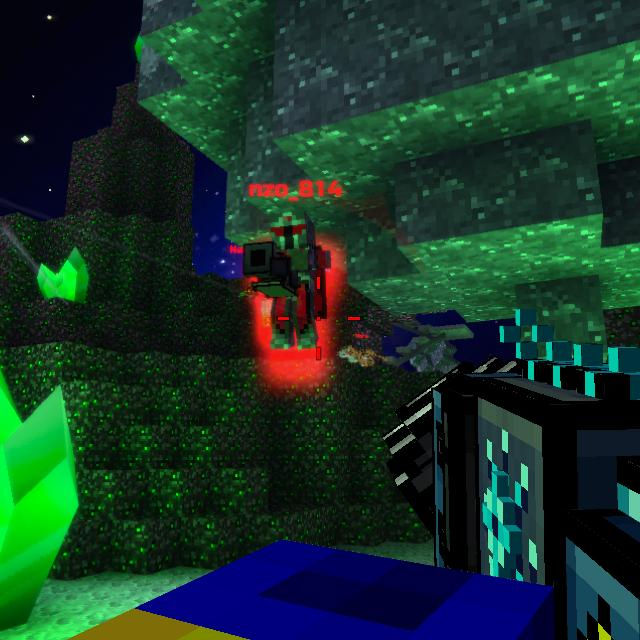Enemy: (245, 217, 331, 351)
